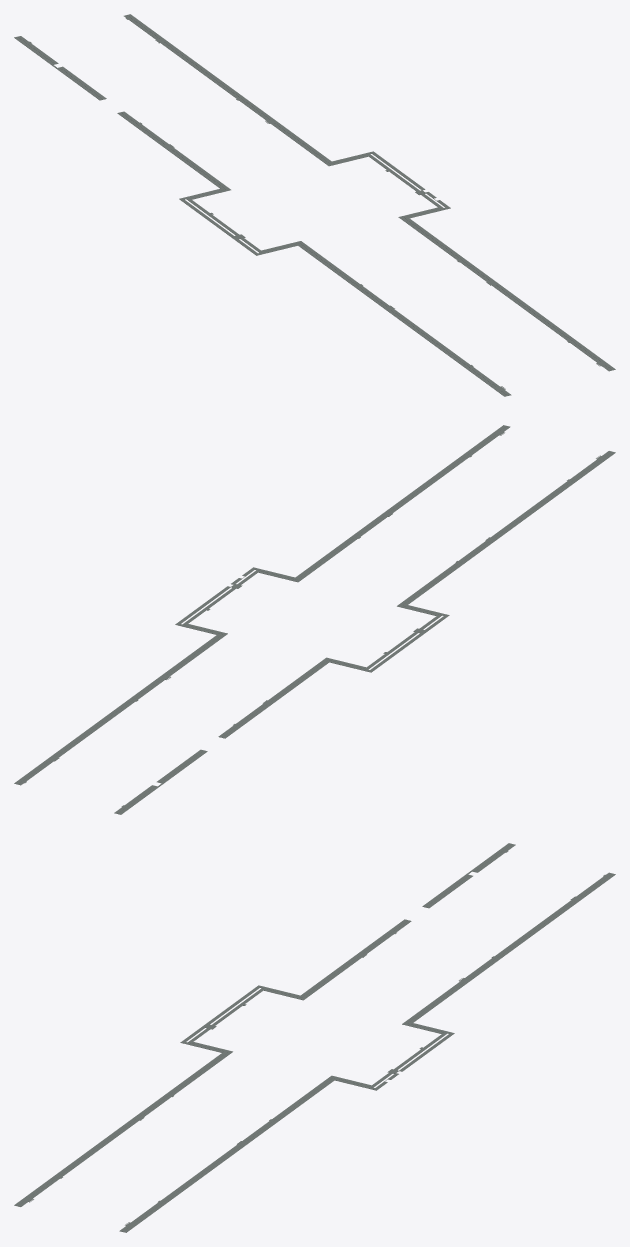
File: AST-MED-G3-008.glb
The picture shows the model from 3 angles, top to bottom: view 1: azimuth 30°, elevation 25°; view 2: azimuth 150°, elevation 25°; view 3: azimuth 330°, elevation 25°; orthographic projection.
Parts seen in each view (by area): view 1: floor_staff_floor_D05; view 2: floor_staff_floor_D05; view 3: floor_staff_floor_D05.
Part boxes in pixels (x1,y1,x2,y2): floor_staff_floor_D05: (14,14,615,396); floor_staff_floor_D05: (14,425,615,814); floor_staff_floor_D05: (14,843,615,1232).
Size of the model in its own units: 220 by 0.24 by 960.
1 material, 1 textured.
